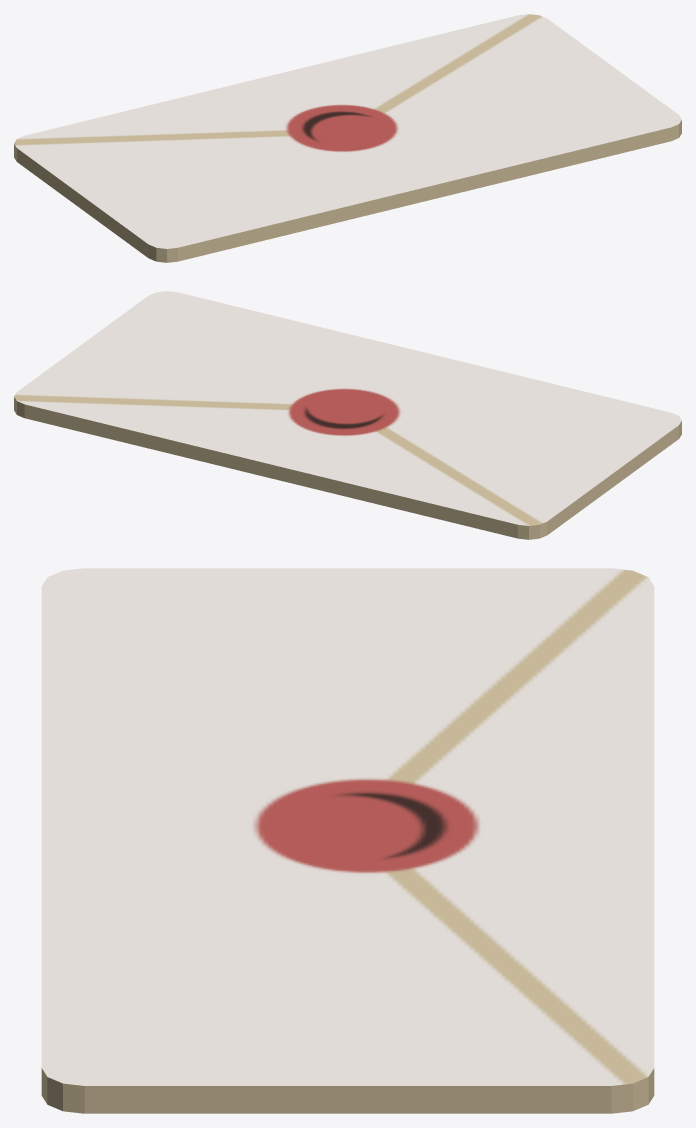
Rendered from 3D_letter.fbx.
The picture shows the model from 3 angles, top to bottom: view 1: azimuth 30°, elevation 25°; view 2: azimuth 150°, elevation 25°; view 3: azimuth 270°, elevation 25°; orthographic projection. The views are drawn at different scales.
Visible parts, largest first — view 1: Letter; view 2: Letter; view 3: Letter.
Boxes of the visible parts, <box> form: Letter: <box>14,14,681,262</box>; Letter: <box>14,291,681,539</box>; Letter: <box>41,568,654,1113</box>.
Bounding box in the file's own units: 0.6938 × 0.0173 × 0.3469.
